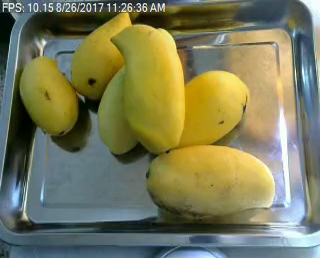Mango: (110, 23, 185, 153), (145, 146, 272, 215), (70, 7, 134, 100), (173, 70, 247, 149), (18, 55, 78, 136), (98, 61, 142, 151)
